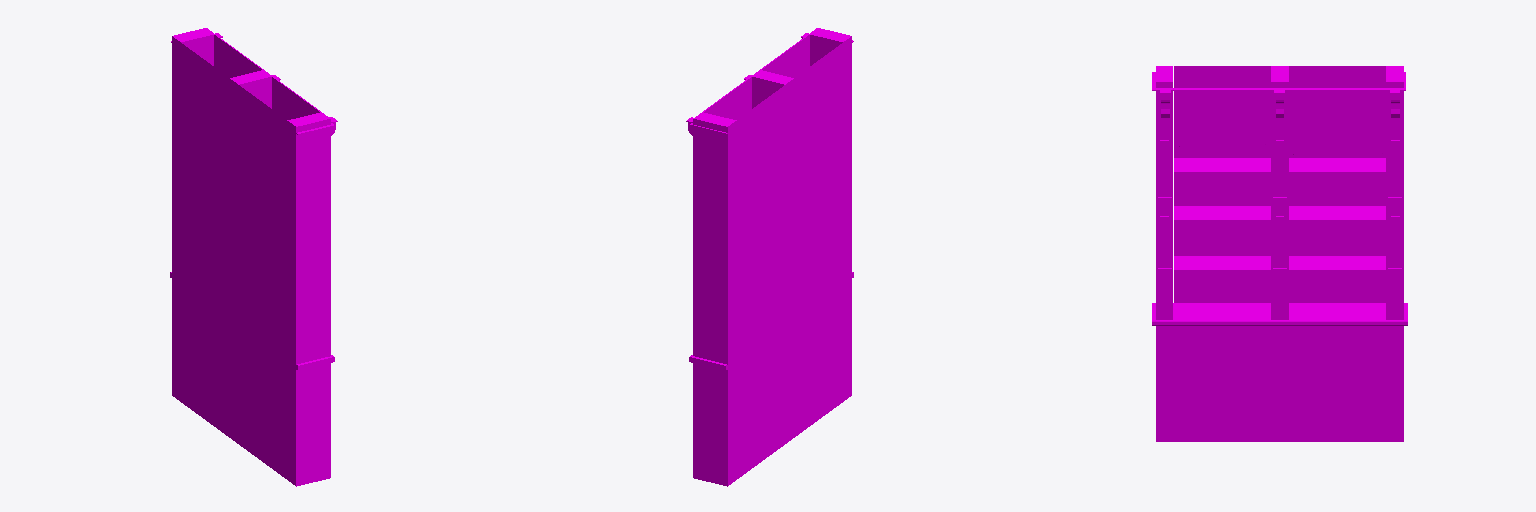
File: texturetest08.obj
3 renders of one model, left to right at view 1: azimuth 30°, elevation 25°; view 2: azimuth 150°, elevation 25°; view 3: azimuth 270°, elevation 25°, orthographic.
Visible parts, largest first — view 1: Cupboard1; view 2: Cupboard1; view 3: Cupboard1.
Boxes of the visible parts, x1,y1,x2,y2 form: Cupboard1: [170, 28, 337, 486]; Cupboard1: [686, 28, 853, 486]; Cupboard1: [1152, 66, 1407, 441].
Size of the model in its own units: 38.08 by 300 by 193.